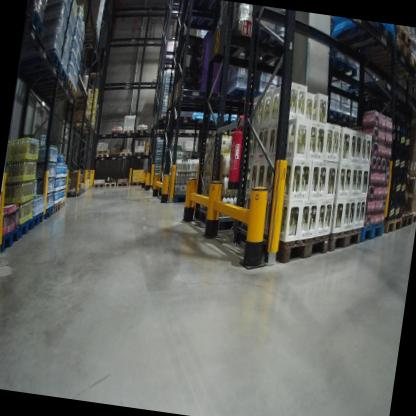pallet: (227, 217, 332, 270), (259, 29, 320, 89), (213, 21, 276, 70), (358, 33, 409, 74), (21, 6, 51, 60), (326, 217, 362, 260), (28, 74, 73, 106), (25, 61, 72, 91), (320, 55, 360, 90), (24, 47, 64, 82), (30, 78, 79, 106), (388, 54, 416, 94), (223, 81, 260, 108), (0, 220, 23, 257), (360, 214, 385, 243), (384, 24, 416, 46), (16, 213, 37, 246), (156, 110, 193, 126), (75, 32, 102, 53), (30, 204, 47, 236), (381, 216, 402, 240), (84, 66, 105, 84), (42, 201, 57, 224), (63, 112, 91, 124), (399, 210, 413, 232), (83, 21, 100, 38), (68, 102, 91, 114), (67, 110, 89, 122), (0, 232, 7, 264), (74, 99, 94, 110), (129, 180, 148, 191), (107, 147, 121, 160), (114, 178, 129, 190), (82, 86, 94, 101), (51, 199, 62, 215), (158, 127, 172, 139), (134, 127, 149, 138), (121, 127, 136, 138), (324, 108, 342, 117), (110, 126, 123, 138), (77, 93, 92, 103), (95, 150, 109, 160), (96, 146, 109, 156), (93, 179, 106, 189), (132, 148, 146, 157), (103, 181, 117, 190), (59, 196, 67, 211), (148, 127, 161, 136), (339, 112, 351, 121), (120, 149, 133, 157), (350, 113, 360, 122), (410, 211, 416, 225)
